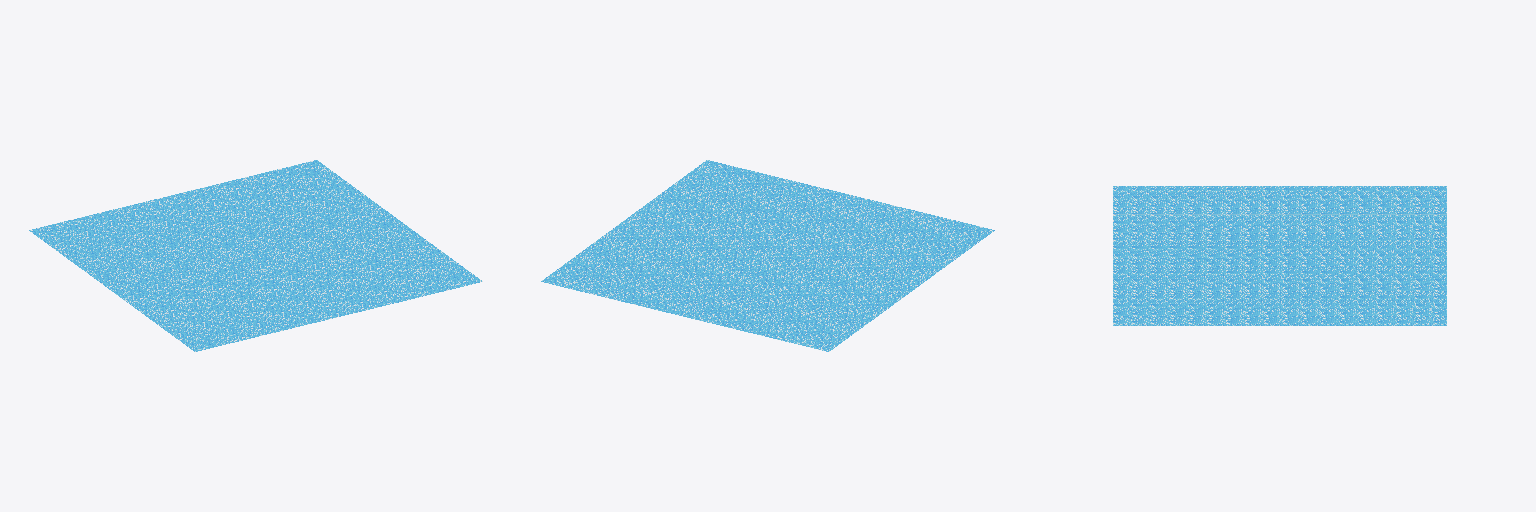
3 views of the same model, side by side, from view 1: azimuth 30°, elevation 25°; view 2: azimuth 150°, elevation 25°; view 3: azimuth 270°, elevation 25° (orthographic).
Parts seen in each view (by area): view 1: Apa; view 2: Apa; view 3: Apa.
Boxes of the visible parts, <box> form: Apa: <box>29,160,482,351</box>; Apa: <box>541,160,994,351</box>; Apa: <box>1113,186,1446,325</box>.
Size of the model in its own units: 58.42 by 0 by 58.42.
Materials: 1 (1 with a texture image).